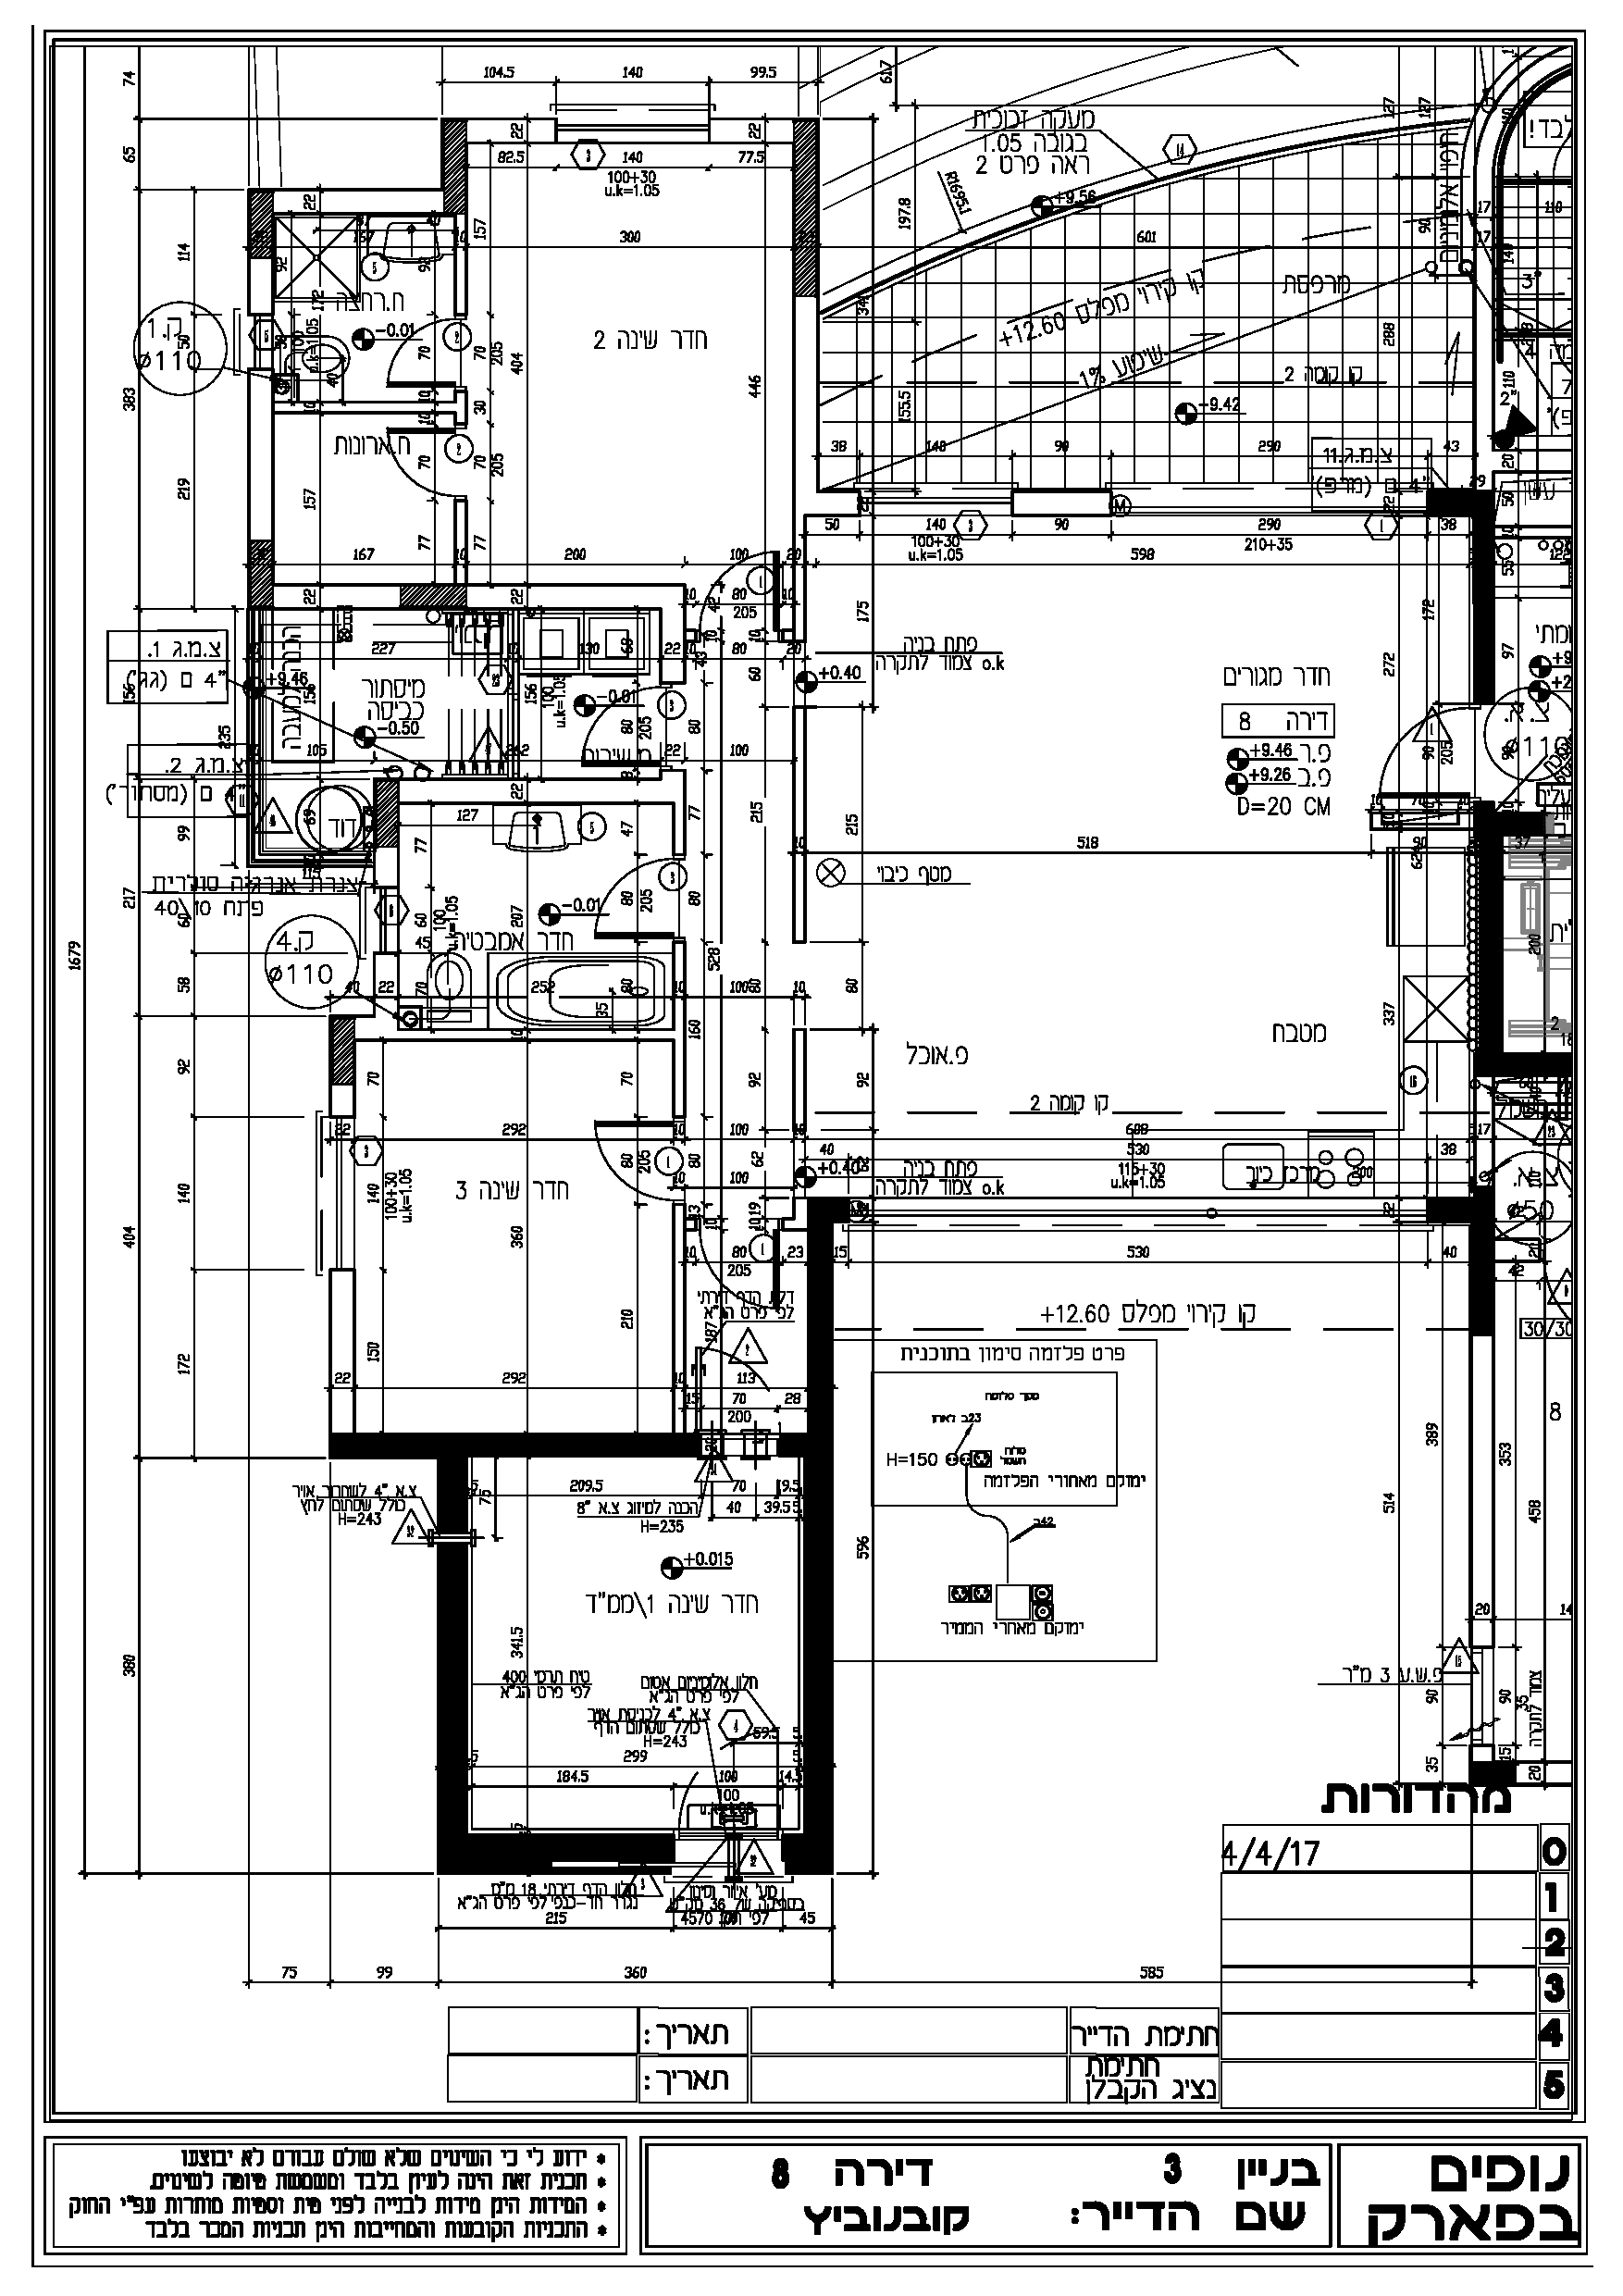door: (588, 845, 701, 966), (576, 685, 692, 778), (692, 550, 789, 657), (381, 422, 487, 509), (590, 1114, 682, 1214), (376, 320, 485, 397)
wall: (418, 1412, 488, 1901), (799, 1189, 843, 1897), (1453, 480, 1500, 692)
window: (548, 109, 732, 160), (845, 487, 1028, 525)
